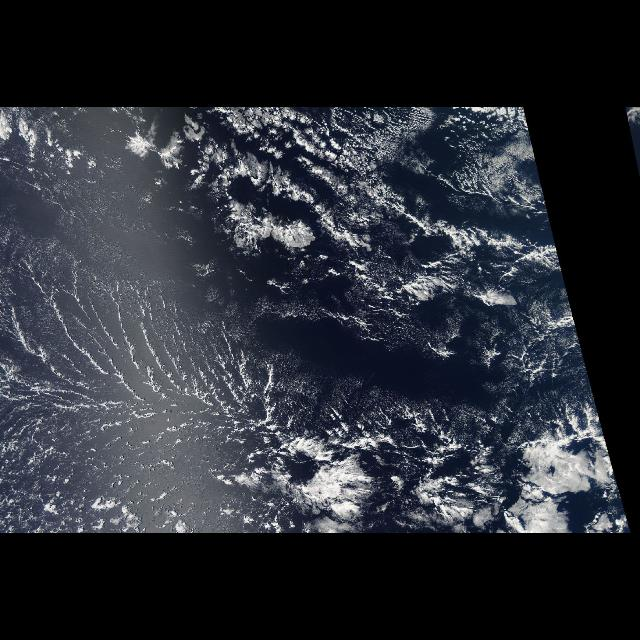Sugar: (1, 107, 356, 489)
